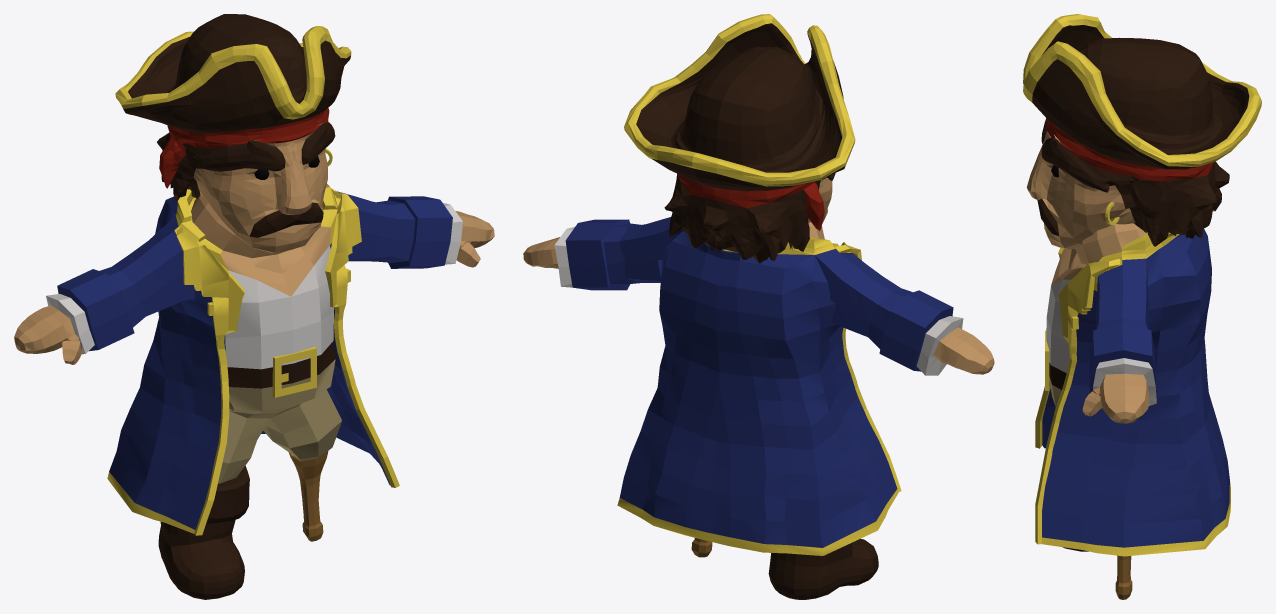
The model's file is PirataFinal.fbx.
3 views of the same model, side by side, from view 1: azimuth 30°, elevation 25°; view 2: azimuth 150°, elevation 25°; view 3: azimuth 270°, elevation 25° (orthographic). The views are drawn at different scales.
Visible parts, largest first — view 1: Box009, Sphere001; view 2: Box009, Sphere001; view 3: Box009, Sphere001.
Part boxes in pixels (<box>): Box009: <box>14,184,494,599</box>; Sphere001: <box>115,14,351,253</box>; Box009: <box>523,217,994,599</box>; Sphere001: <box>624,14,855,263</box>; Box009: <box>1035,223,1230,599</box>; Sphere001: <box>1023,14,1261,249</box>.
Bounding box in the file's own units: 1.31 × 1.44 × 0.5739.
